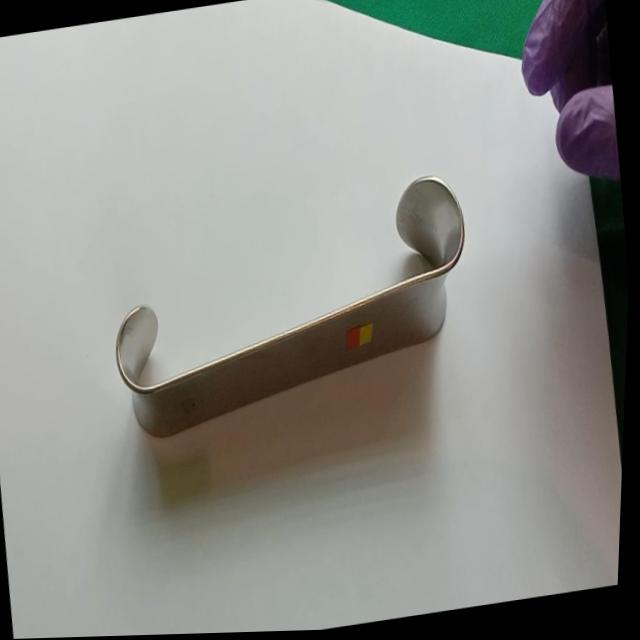CheekRetractor: (97, 168, 492, 447)
